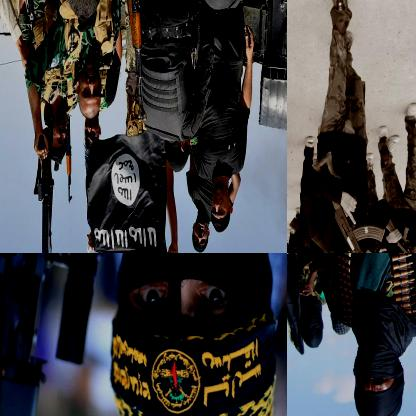rifle: (0, 253, 129, 415), (310, 151, 412, 252), (112, 0, 153, 121), (33, 131, 57, 252), (63, 112, 76, 204), (386, 217, 415, 252)
